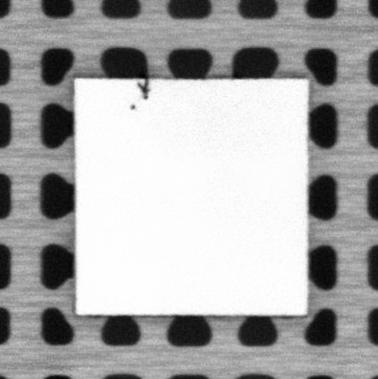DIE_INK: (137, 79, 152, 101), (127, 101, 137, 112)
